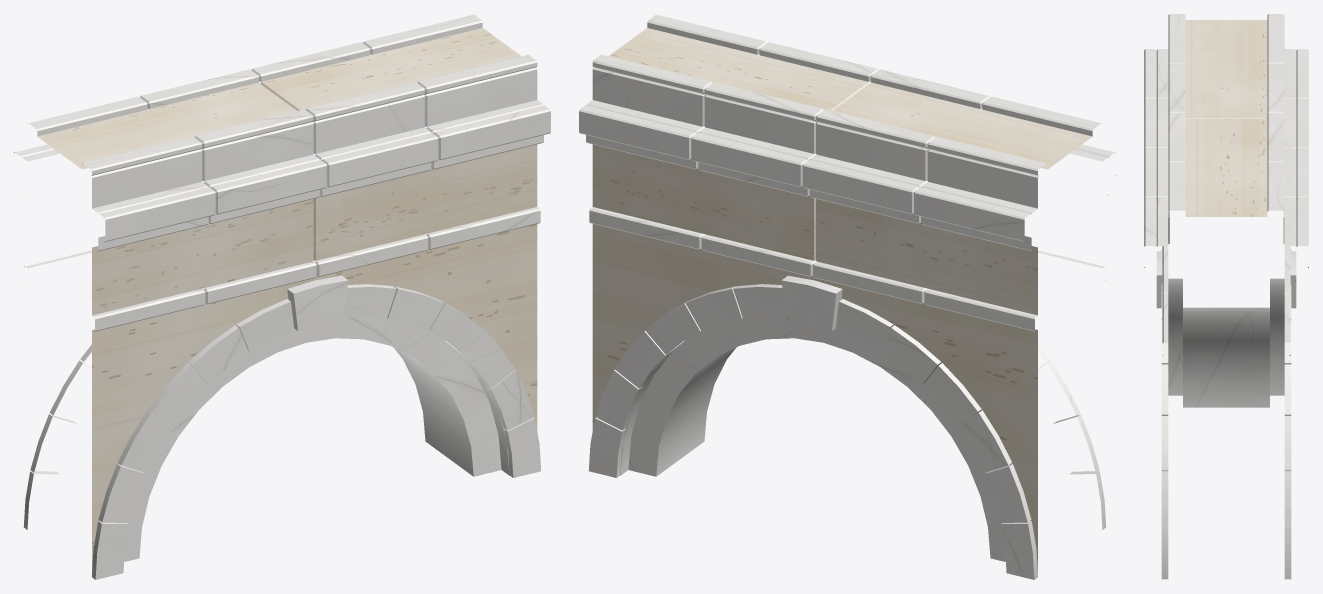
3 renders of one model, left to right at view 1: azimuth 30°, elevation 25°; view 2: azimuth 150°, elevation 25°; view 3: azimuth 270°, elevation 25°, orthographic. The views are drawn at different scales.
Visible parts, largest first — view 1: Mesh_arcade_arch; view 2: Mesh_arcade_arch; view 3: Mesh_arcade_arch.
Part boxes in pixels (left/top/right/bottom): Mesh_arcade_arch: left=14, top=14, right=550, bottom=579; Mesh_arcade_arch: left=579, top=14, right=1115, bottom=579; Mesh_arcade_arch: left=1144, top=14, right=1308, bottom=579.
Size of the model in its own units: 4.8 by 4.2 by 1.7.
1 material, 1 textured.
